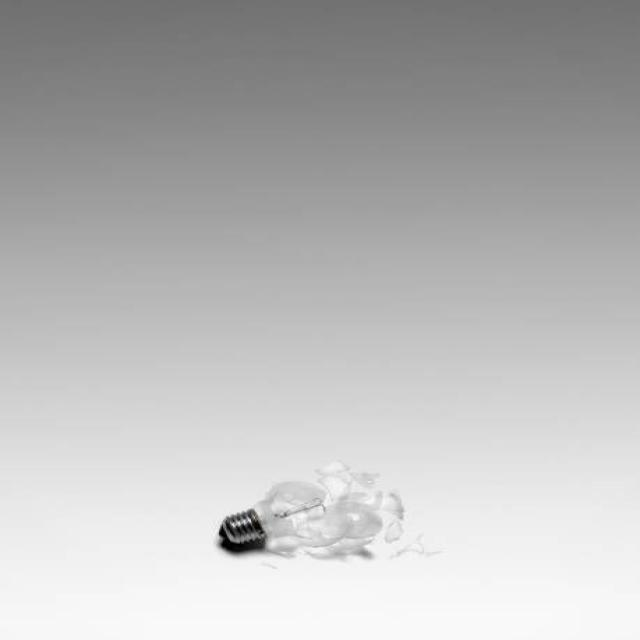electronic: (216, 459, 406, 559)
